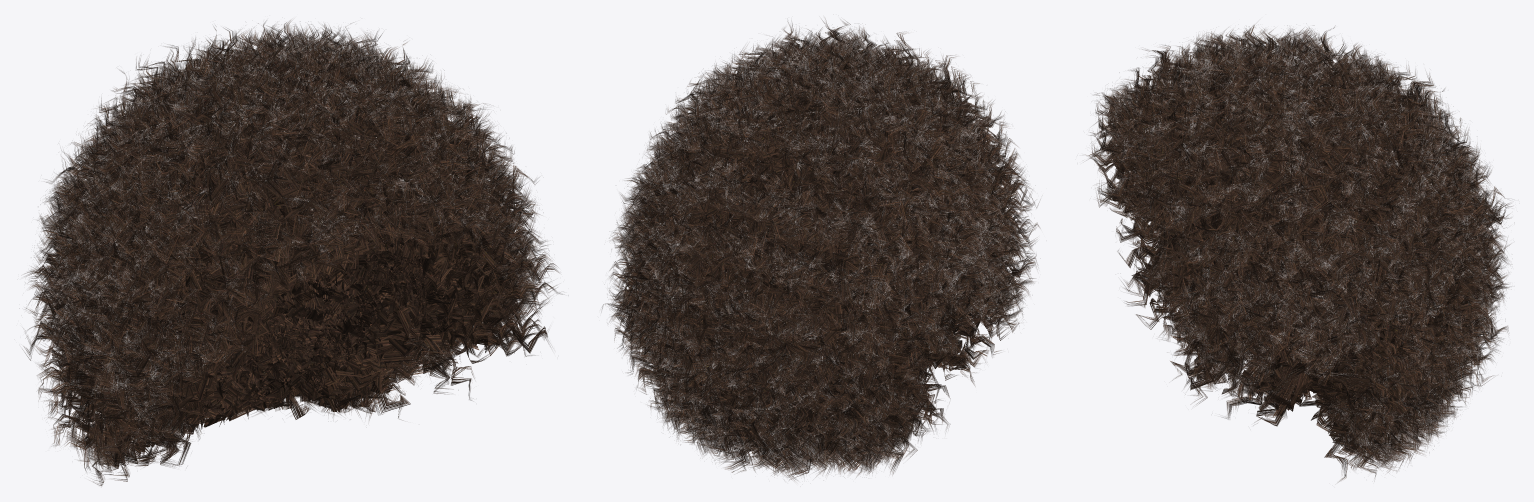
The model's file is afro.glb.
The picture shows the model from 3 angles, left to right: view 1: azimuth 30°, elevation 25°; view 2: azimuth 150°, elevation 25°; view 3: azimuth 270°, elevation 25°; orthographic projection. The views are drawn at different scales.
Visible parts, largest first — view 1: MH_coiffure_afro; view 2: MH_coiffure_afro; view 3: MH_coiffure_afro.
Boxes of the visible parts, x1,y1,x2,y2 form: MH_coiffure_afro: (23, 20, 562, 485); MH_coiffure_afro: (602, 19, 1039, 480); MH_coiffure_afro: (1086, 25, 1511, 481).
Size of the model in its own units: 0.3055 by 0.2957 by 0.3006.
1 material, 1 textured.
